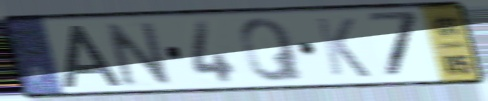4: (190, 17, 240, 86)
7: (364, 9, 423, 82)
A: (61, 23, 125, 89)
K: (312, 15, 374, 80)
N: (101, 19, 176, 90)
Q: (236, 16, 309, 85)
